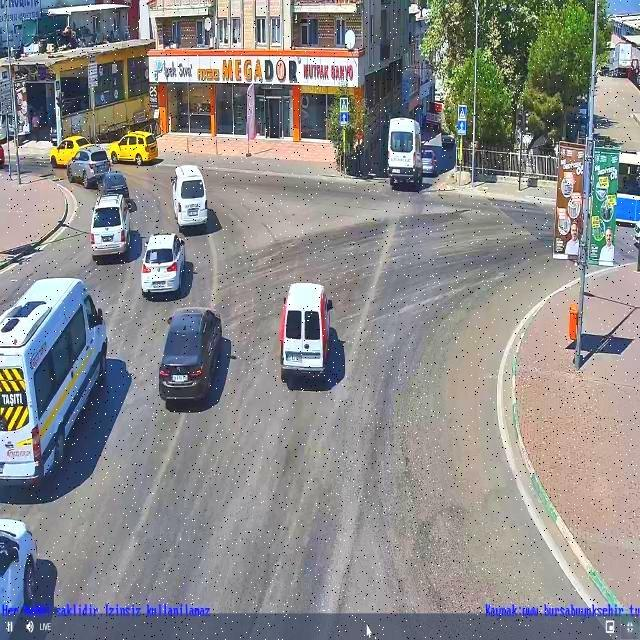Bus: (0, 272, 107, 484)
Car: (156, 302, 224, 418), (140, 229, 183, 304), (90, 195, 131, 262), (109, 128, 158, 166), (67, 145, 111, 187), (47, 132, 90, 166), (100, 169, 128, 198)
Van: (280, 276, 332, 381), (386, 112, 424, 194), (170, 163, 208, 228)
